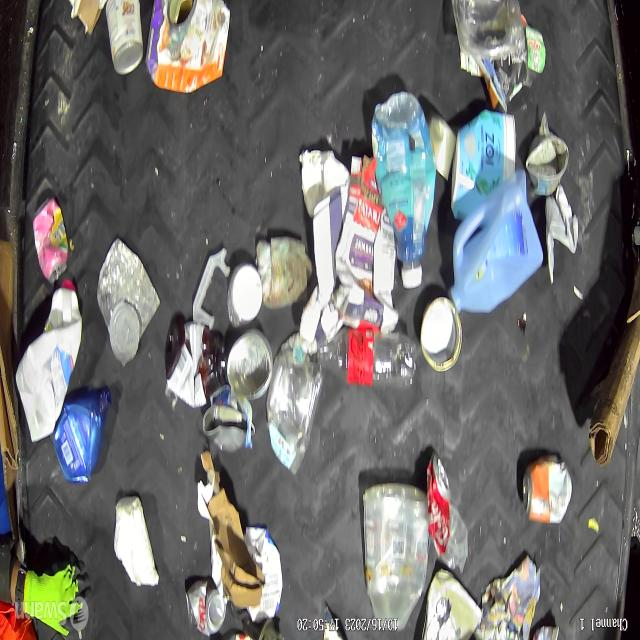can: (226, 331, 272, 404), (522, 456, 573, 520), (32, 196, 69, 284), (200, 400, 254, 453), (105, 0, 143, 75), (427, 458, 452, 556), (188, 574, 225, 632)
non_white_jug: (452, 173, 546, 317), (52, 380, 110, 488)
plastic_bottle: (369, 102, 434, 287), (307, 321, 412, 391)
